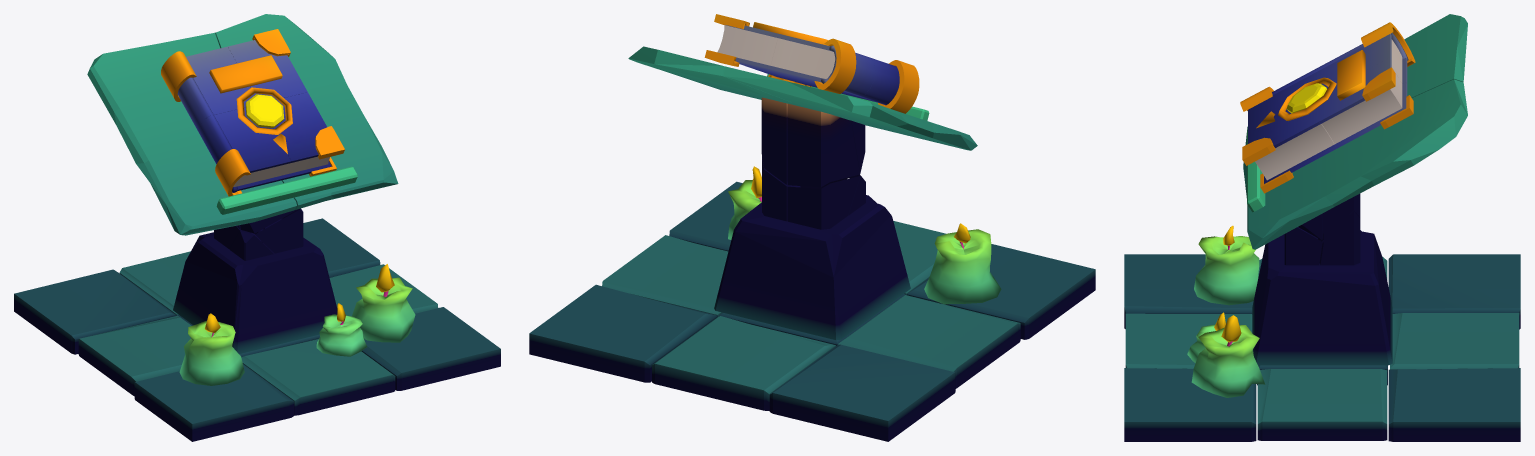
The picture shows the model from 3 angles, left to right: view 1: azimuth 30°, elevation 25°; view 2: azimuth 150°, elevation 25°; view 3: azimuth 270°, elevation 25°; orthographic projection. The views are drawn at different scales.
Visible parts, largest first — view 1: Cube_L1_38, Cube_L1_32, Cube_L1_37, Cube_L1_39, Cube_L1_42, Cube_L1_43, Cube_L1_41, Cube_L1_47, Cube_L1_33, Cube_L1_12, Cube_L1_11, Cube_L1_10 (+19 smaller); view 2: Cube_L1_32, Cube_L1_39, Cube_L1_40, Cube_L1_44, Cube_L1_47, Cube_L1_42, Cube_L1_46, Cube_L1_38, Cube_L1_35, Cube_L1_33, Cube_L1_34, Cube_L1_37 (+12 smaller); view 3: Cube_L1_32, Cube_L1_37, Cube_L1_40, Cube_L1_46, Cube_L1_41, Cube_L1_39, Cube_L1_44, Cube_L1_42, Cube_L1_43, Cube_L1_12, Cube_L1_38, Cube_L1_33 (+20 smaller).
Part boxes in pixels (box(x1,y1,x2,y2)): Cube_L1_38: box(87, 33, 296, 235); Cube_L1_32: box(173, 232, 337, 353); Cube_L1_37: box(215, 14, 398, 209); Cube_L1_39: box(14, 269, 176, 354); Cube_L1_42: box(134, 364, 294, 441); Cube_L1_43: box(241, 339, 395, 415); Cube_L1_41: box(361, 307, 500, 390); Cube_L1_47: box(78, 315, 191, 396); Cube_L1_33: box(179, 313, 244, 385); Cube_L1_12: box(352, 264, 415, 342); Cube_L1_11: box(216, 166, 357, 214); Cube_L1_10: box(214, 107, 291, 172); Cube_L1_32: box(714, 195, 910, 340); Cube_L1_39: box(769, 344, 955, 441); Cube_L1_40: box(529, 284, 717, 382); Cube_L1_44: box(652, 316, 835, 410); Cube_L1_47: box(838, 295, 1020, 388); Cube_L1_42: box(907, 244, 1095, 339); Cube_L1_46: box(602, 235, 728, 316); Cube_L1_38: box(723, 66, 977, 150); Cube_L1_35: box(787, 103, 859, 187); Cube_L1_33: box(924, 223, 1001, 304); Cube_L1_34: box(787, 176, 859, 229); Cube_L1_37: box(628, 46, 813, 109); Cube_L1_32: box(1252, 230, 1392, 365); Cube_L1_37: box(1245, 79, 1467, 249); Cube_L1_40: box(1388, 368, 1520, 441); Cube_L1_46: box(1257, 369, 1387, 440); Cube_L1_41: box(1124, 368, 1256, 441); Cube_L1_39: box(1388, 254, 1520, 329); Cube_L1_44: box(1390, 313, 1519, 369); Cube_L1_42: box(1124, 254, 1253, 328); Cube_L1_43: box(1125, 313, 1252, 368); Cube_L1_12: box(1191, 315, 1265, 397); Cube_L1_38: box(1243, 14, 1467, 185); Cube_L1_33: box(1194, 225, 1259, 305).
Size of the model in its own units: 17.66 by 15.24 by 17.66.
